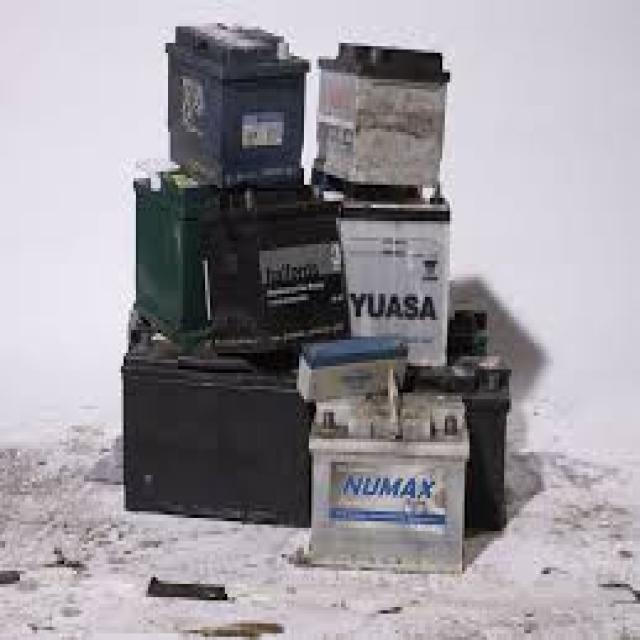battery: (121, 23, 509, 567)
